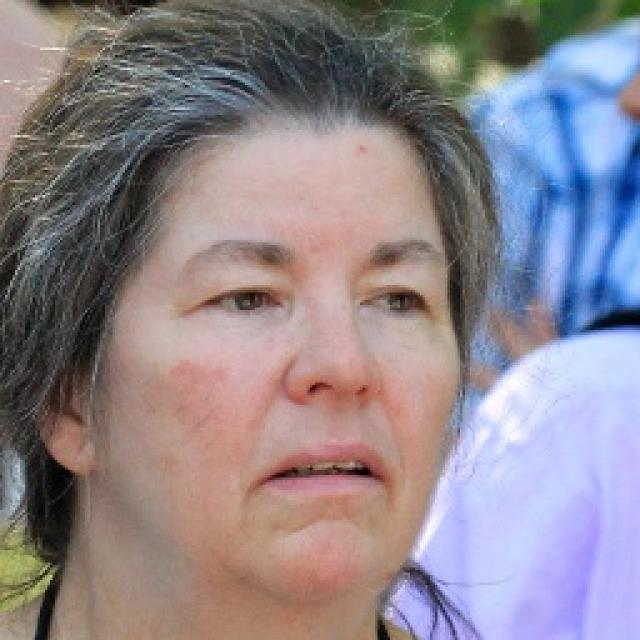earlobe: (48, 417, 96, 478)
eye: (206, 286, 282, 314), (363, 290, 433, 316)
nose: (291, 388, 376, 444)
wholeear: (29, 364, 96, 479)
